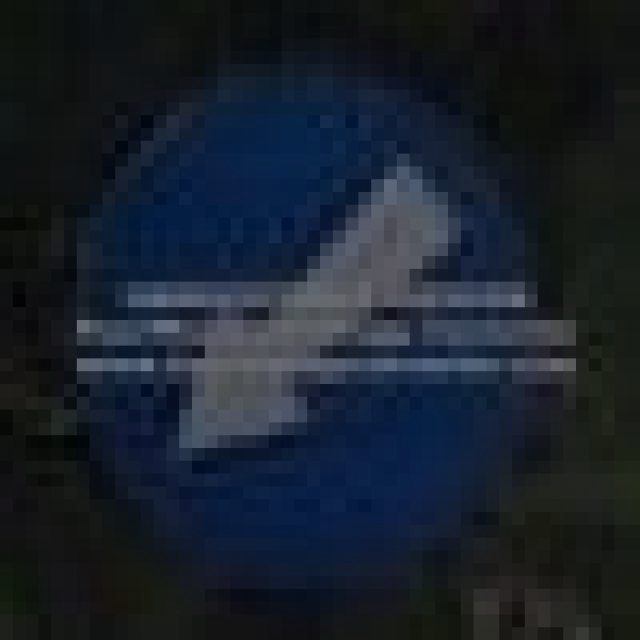R.301e: (0, 0, 627, 627)
